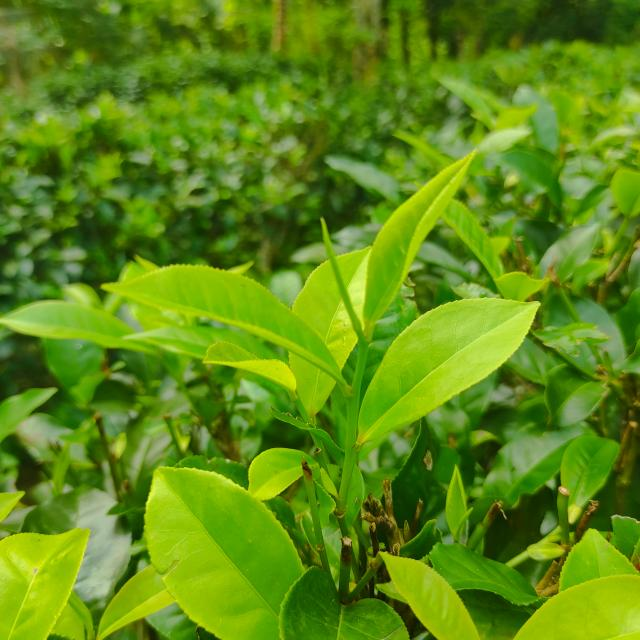unopened_leaf: (316, 211, 371, 348), (389, 516, 443, 552), (446, 498, 478, 548)
